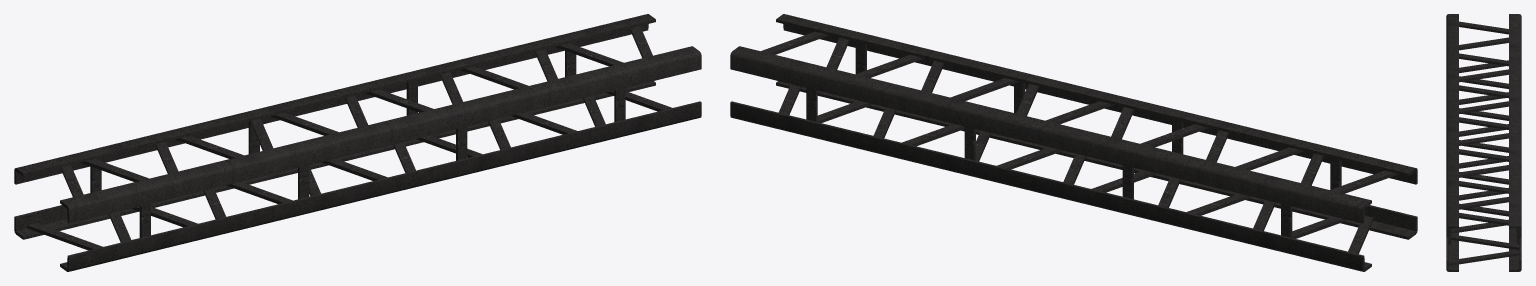
File: beam_6.glb
3 renders of one model, left to right at view 1: azimuth 30°, elevation 25°; view 2: azimuth 150°, elevation 25°; view 3: azimuth 270°, elevation 25°, orthographic. The views are drawn at different scales.
Parts seen in each view (by area): view 1: beam_6; view 2: beam_6; view 3: beam_6.
Boxes of the visible parts, x1,y1,x2,y2 form: beam_6: [14, 14, 701, 271]; beam_6: [730, 14, 1417, 271]; beam_6: [1446, 14, 1521, 271].
Size of the model in its own units: 4 by 0.4 by 0.6.
Materials: 1 (1 with a texture image).
